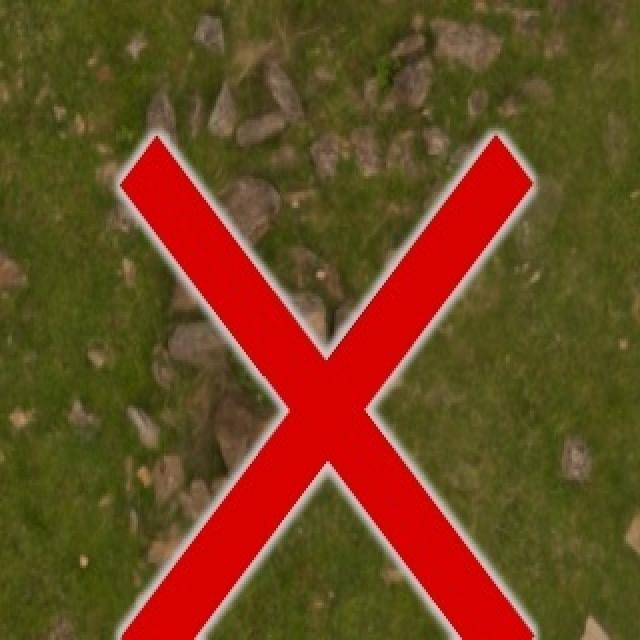x_marker: (119, 134, 533, 638)
